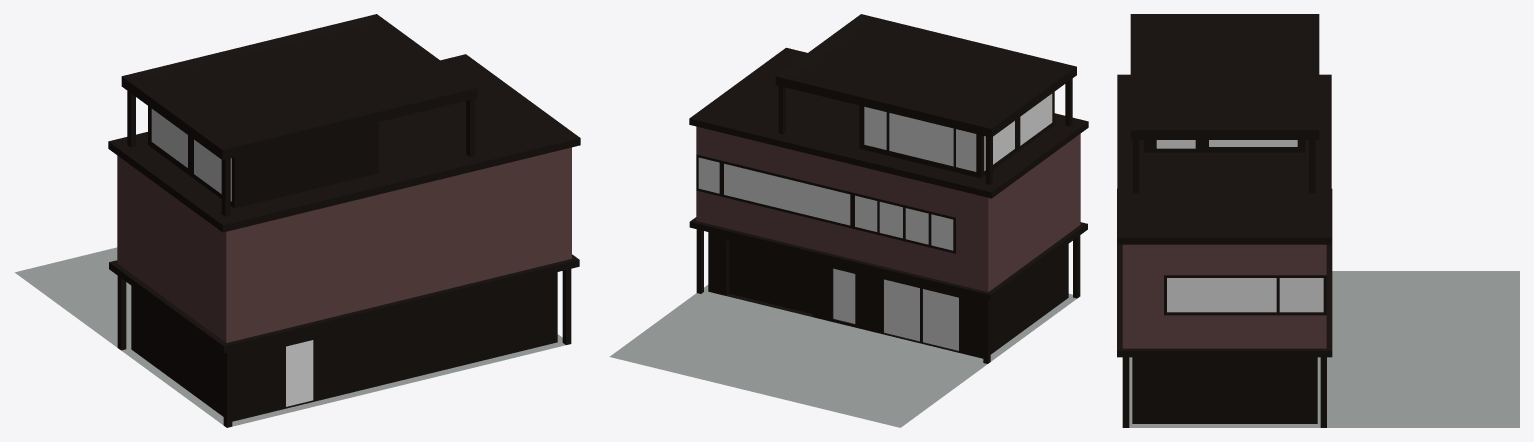
File: rumah premium.fbx
3 views of the same model, side by side, from view 1: azimuth 30°, elevation 25°; view 2: azimuth 150°, elevation 25°; view 3: azimuth 270°, elevation 25° (orthographic). The views are drawn at different scales.
Parts seen in each view (by area): view 1: Cube.079; view 2: Cube.079; view 3: Cube.079.
Part boxes in pixels (x1,y1,x2,y2): Cube.079: (15, 14, 580, 427); Cube.079: (609, 14, 1088, 427); Cube.079: (1117, 14, 1519, 427).
Size of the model in its own units: 51.37 by 37.72 by 53.62.
